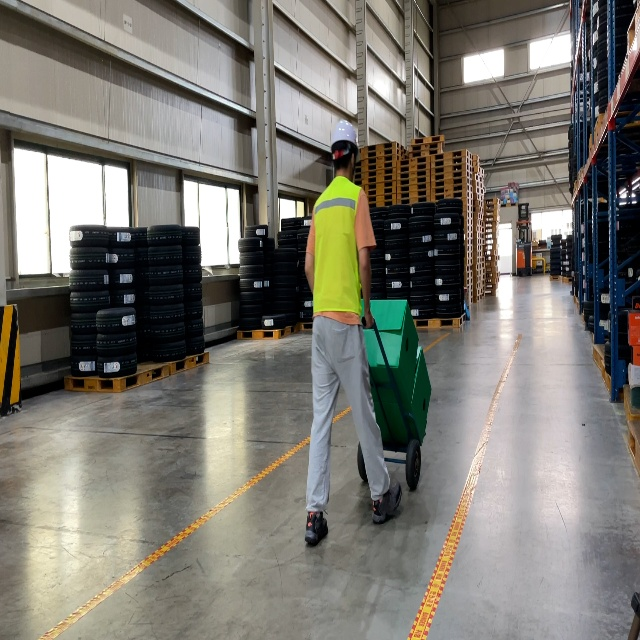Box: (371, 344, 432, 451), (360, 297, 419, 406)
Worker: (303, 118, 403, 546)
